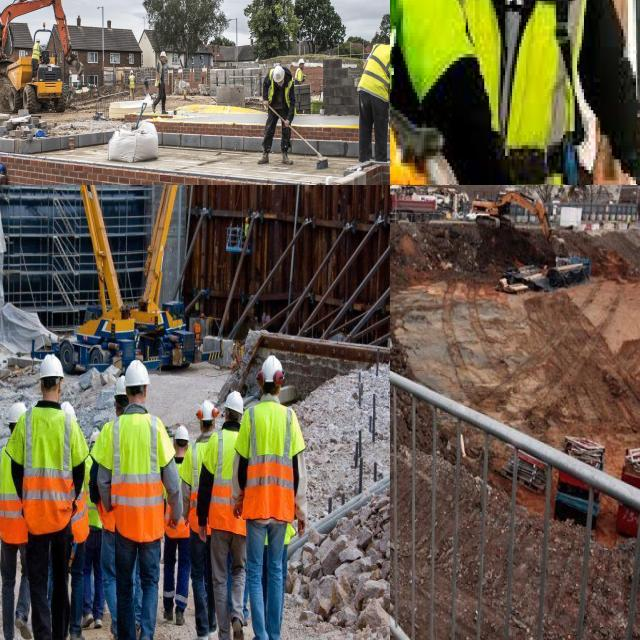head_helmet: (125, 358, 151, 390), (259, 354, 284, 384), (38, 354, 64, 381), (197, 401, 220, 425), (223, 390, 244, 416), (8, 401, 28, 425), (173, 425, 189, 443), (272, 66, 286, 83), (114, 376, 126, 395), (60, 402, 76, 416), (158, 49, 170, 60), (127, 67, 134, 75), (299, 57, 306, 63), (37, 39, 42, 45)
person: (459, 0, 640, 185), (390, 0, 514, 185), (242, 357, 307, 640), (23, 354, 81, 640), (112, 361, 168, 640), (201, 390, 246, 640), (0, 402, 32, 640), (164, 425, 193, 629), (84, 430, 106, 630), (356, 34, 390, 162), (264, 67, 296, 165), (154, 50, 172, 112), (124, 65, 140, 95), (31, 35, 45, 65)
shoes: (280, 149, 294, 167), (256, 150, 271, 166), (175, 608, 187, 626), (51, 632, 66, 640), (151, 101, 157, 114), (162, 108, 168, 115)
vest: (444, 0, 591, 185), (108, 410, 168, 540), (237, 402, 299, 524), (16, 408, 77, 526), (207, 427, 245, 536), (0, 444, 28, 543), (186, 442, 211, 535), (368, 45, 390, 96), (264, 80, 293, 102), (158, 62, 167, 84), (296, 68, 305, 82), (130, 74, 136, 85), (34, 48, 40, 58)
